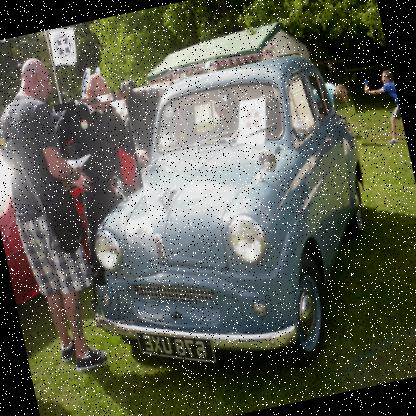Car: (53, 44, 403, 397), (0, 97, 163, 305), (0, 126, 6, 154)
